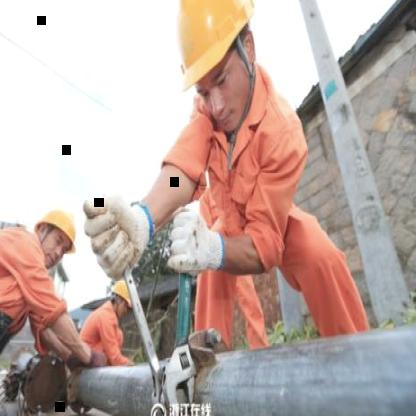helmet: (160, 0, 281, 109), (34, 208, 80, 259)
